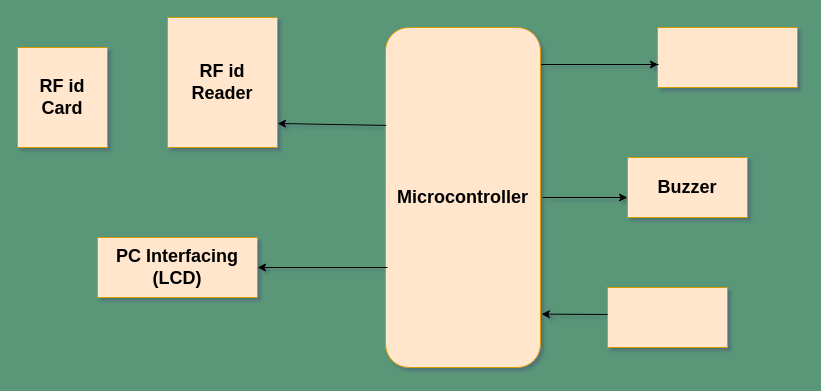
The diagram is 821 pixels wide and 391 high, and some of its shapes have lost their labels. Here are the shapes that lost their labels. From the top down, the box of each, then its label:
(656, 26, 798, 88): LCD
(606, 286, 728, 348): Keypad
